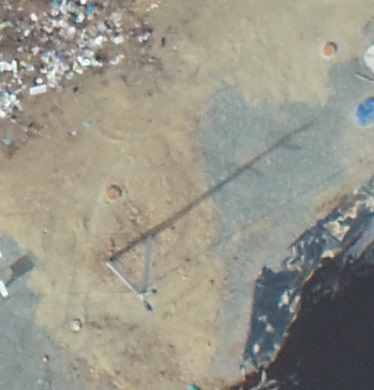opora: (102, 216, 162, 315)
